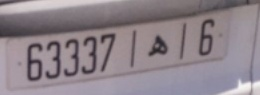3: (45, 40, 62, 79), (81, 34, 97, 75), (63, 38, 80, 76)
6: (25, 42, 44, 81), (197, 17, 216, 55)
7: (100, 31, 117, 73)
h: (145, 34, 168, 58)
